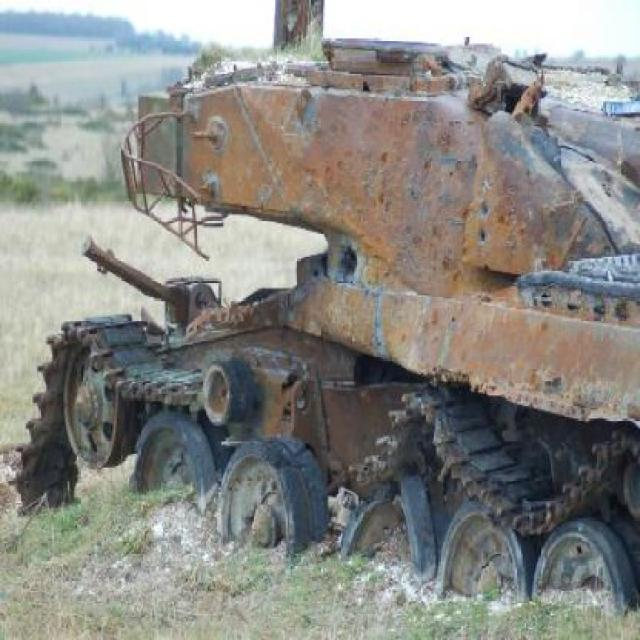corrosion: (12, 31, 640, 611)
